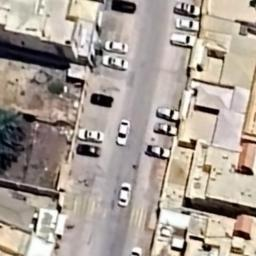SUV: (167, 30, 201, 49), (142, 142, 174, 162), (170, 0, 204, 17), (156, 104, 182, 123)
sedan: (99, 54, 133, 72), (114, 117, 132, 149), (76, 126, 108, 144), (87, 90, 117, 109), (72, 142, 104, 159), (103, 37, 133, 55), (170, 18, 204, 32), (152, 122, 182, 136), (109, 0, 138, 14), (118, 180, 132, 208), (128, 244, 145, 256)
